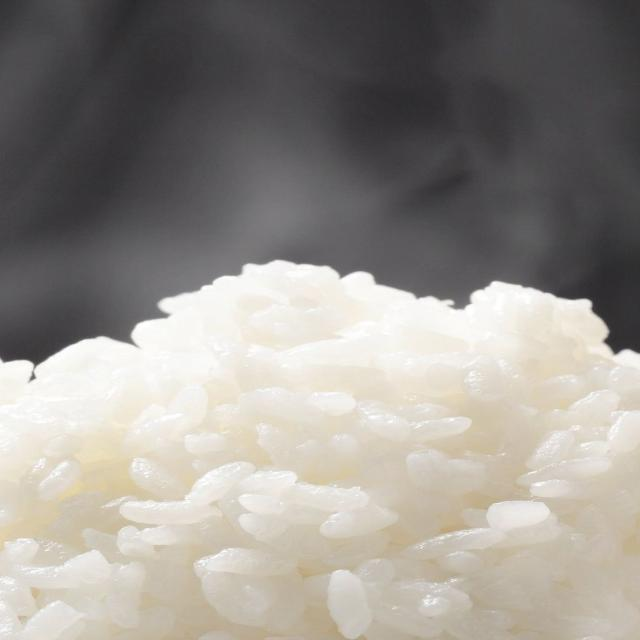rice: (0, 262, 639, 639)
